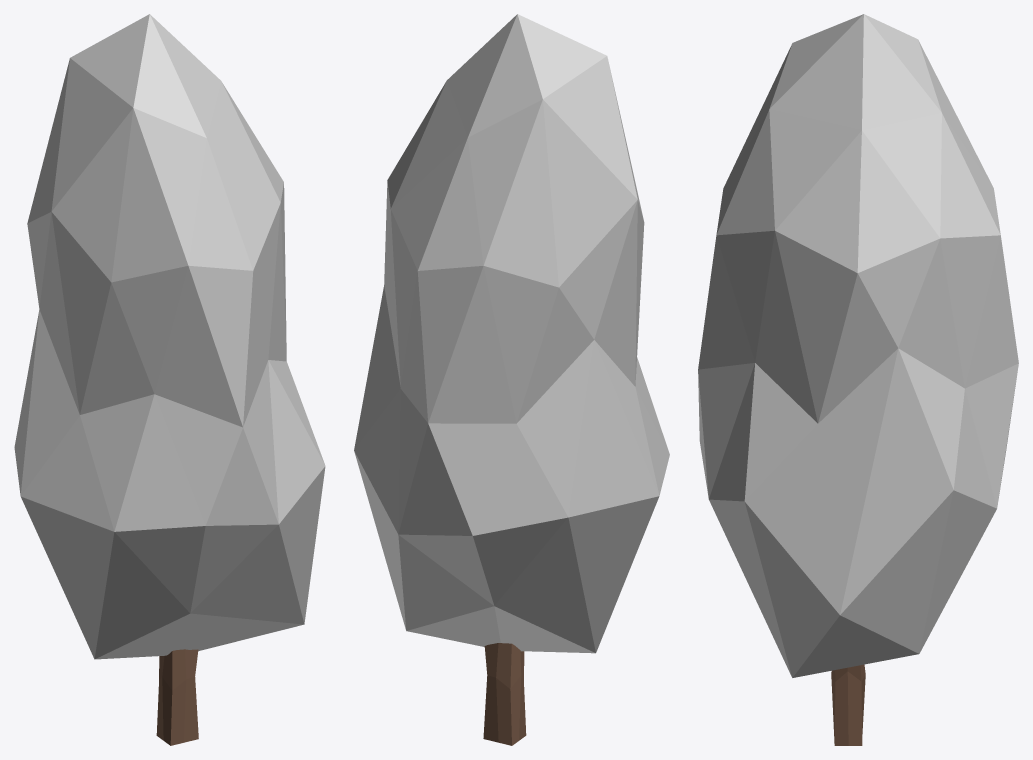
Rendered from Tree_60_White.fbx.
The picture shows the model from 3 angles, left to right: view 1: azimuth 30°, elevation 25°; view 2: azimuth 150°, elevation 25°; view 3: azimuth 270°, elevation 25°; orthographic projection. The views are drawn at different scales.
Visible parts, largest first — view 1: Tree_60_White_Part_1, Tree_60_White_Part_2; view 2: Tree_60_White_Part_1, Tree_60_White_Part_2; view 3: Tree_60_White_Part_1, Tree_60_White_Part_2.
Part boxes in pixels (x1=…): Tree_60_White_Part_1: x1=14, y1=14, x2=325, y2=659; Tree_60_White_Part_2: x1=156, y1=649, x2=198, y2=745; Tree_60_White_Part_1: x1=354, y1=14, x2=669, y2=653; Tree_60_White_Part_2: x1=483, y1=643, x2=526, y2=745; Tree_60_White_Part_1: x1=698, y1=14, x2=1018, y2=677; Tree_60_White_Part_2: x1=831, y1=664, x2=865, y2=745.
Size of the model in its own units: 327 by 788 by 320.
